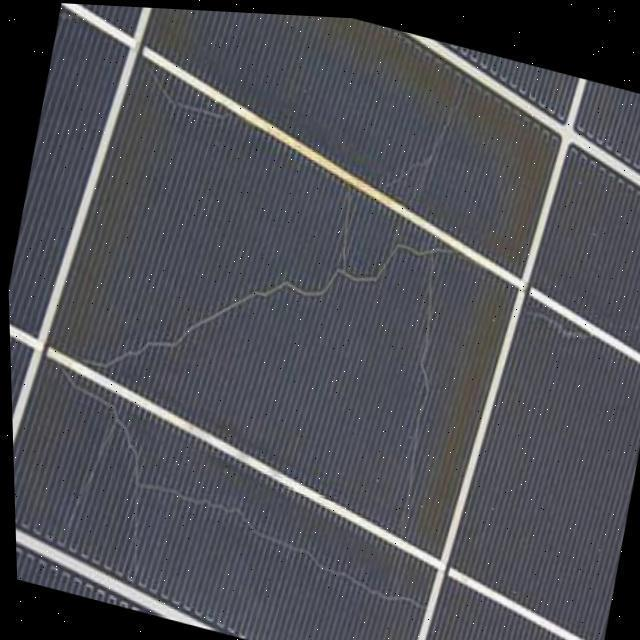Anomaly Solar Panel: (0, 0, 640, 640)
Structural Damage: (76, 162, 448, 437), (133, 460, 430, 614), (54, 349, 175, 563), (398, 248, 446, 516), (377, 110, 480, 209), (519, 299, 592, 340)
